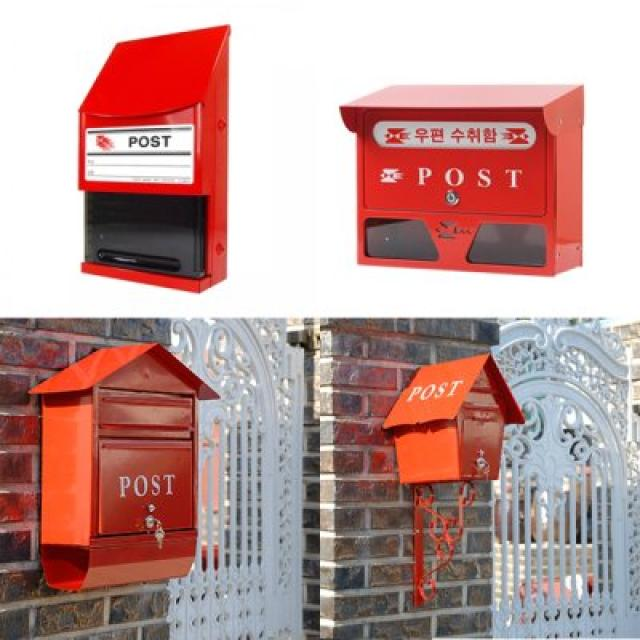Post Box: (28, 342, 222, 596), (340, 84, 587, 278), (76, 19, 229, 297), (384, 354, 524, 485)
